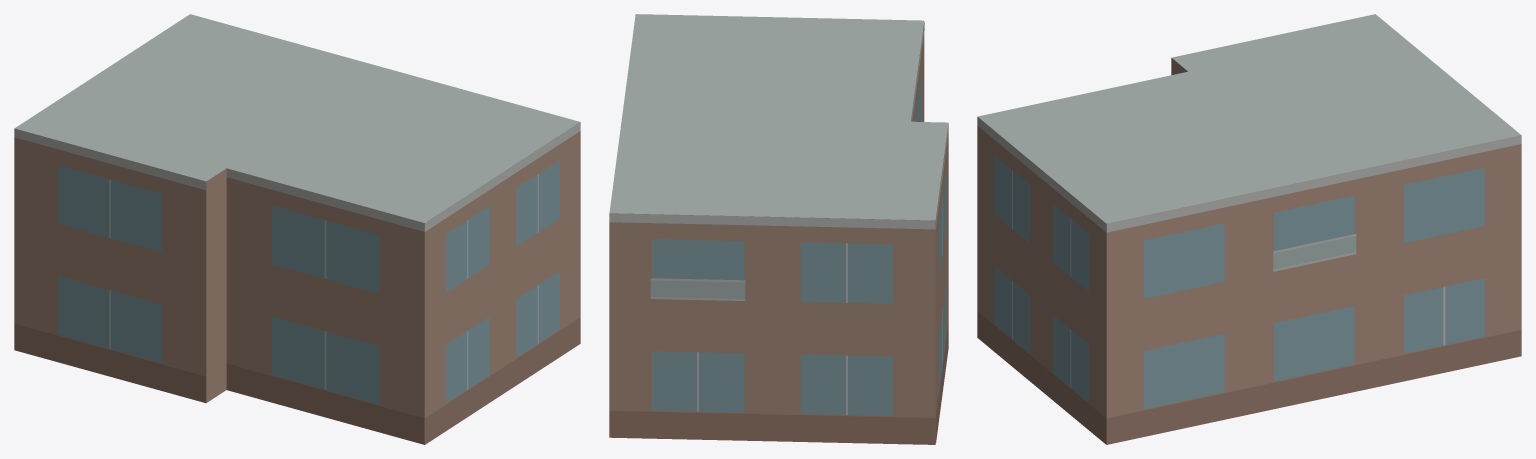
The model's file is survey-upis-32809878.glb.
The picture shows the model from 3 angles, left to right: view 1: azimuth 30°, elevation 25°; view 2: azimuth 150°, elevation 25°; view 3: azimuth 270°, elevation 25°; orthographic projection.
Visible parts, largest first — view 1: survey-upis-32809878.tmp; view 2: survey-upis-32809878.tmp; view 3: survey-upis-32809878.tmp.
Part boxes in pixels (x1,y1,x2,y2): survey-upis-32809878.tmp: (14, 14, 580, 444); survey-upis-32809878.tmp: (609, 14, 948, 444); survey-upis-32809878.tmp: (977, 14, 1521, 444).
Size of the model in its own units: 12.43 by 6.1 by 13.62.
